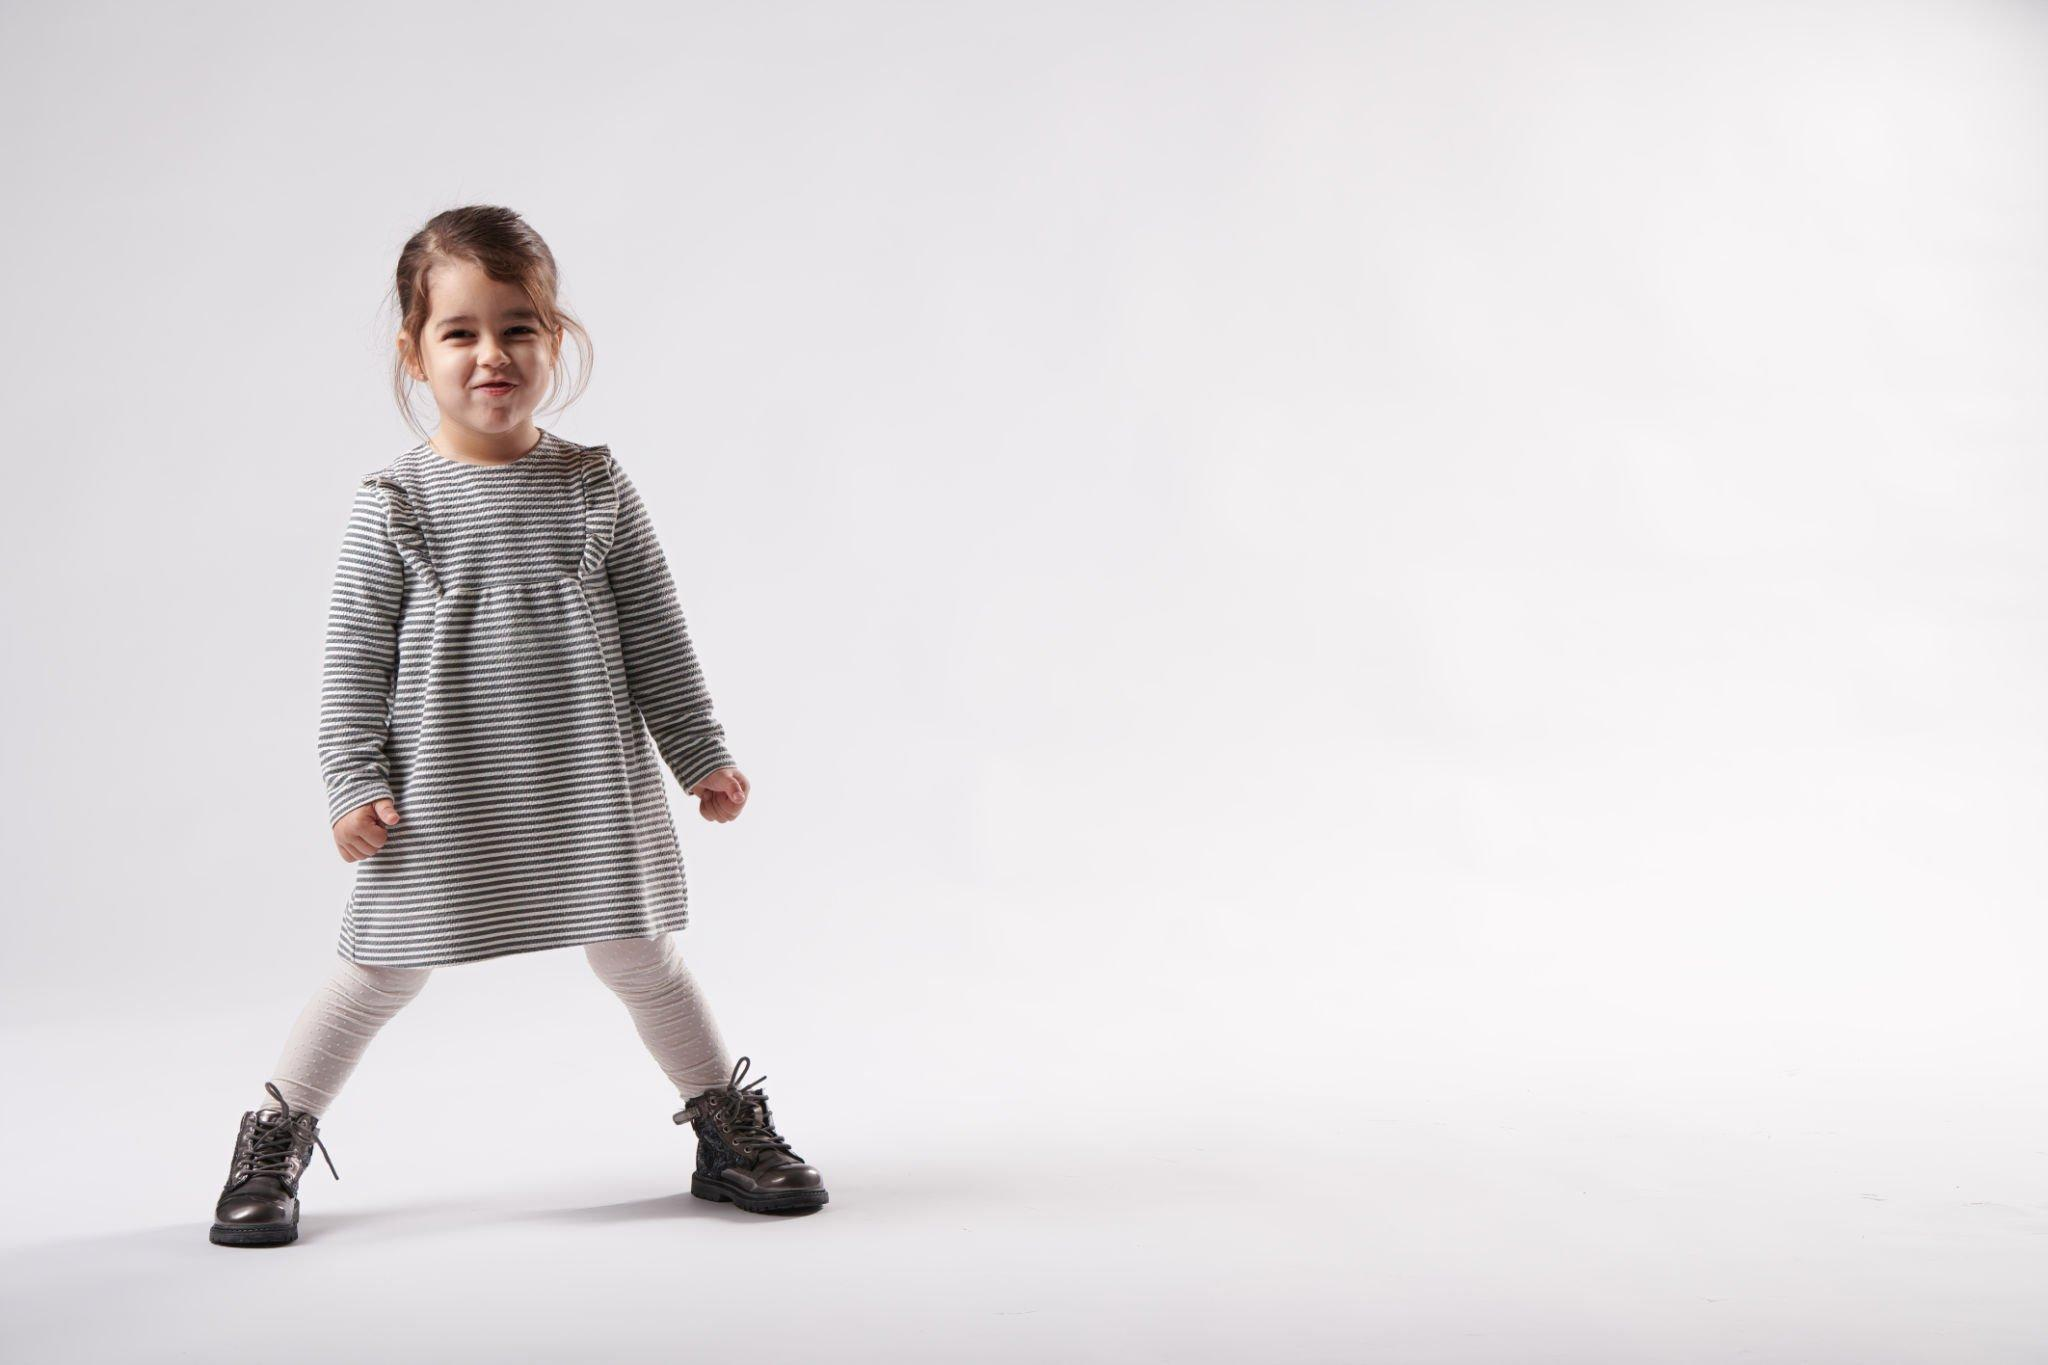Healthy: (391, 222, 603, 466)
